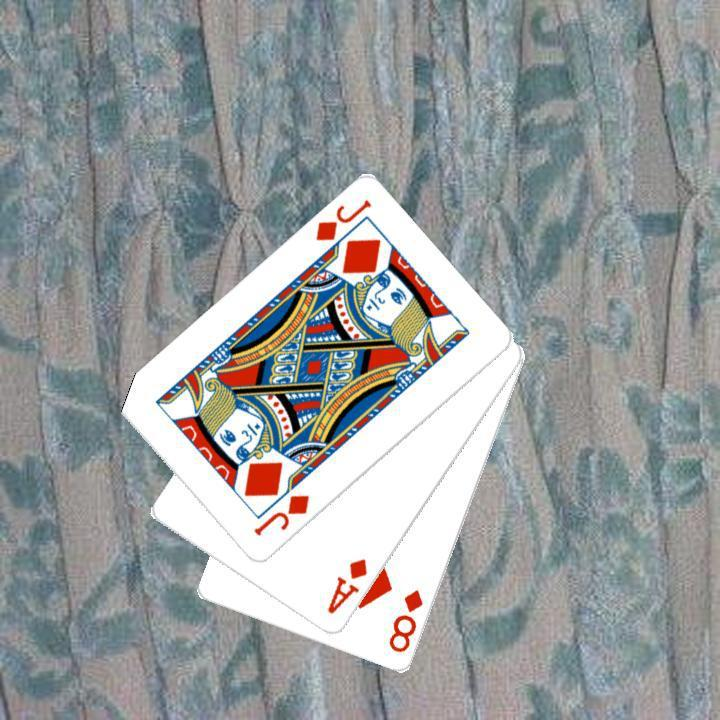8: (384, 585, 426, 656)
A: (322, 554, 370, 617)
J: (310, 195, 374, 244), (249, 490, 312, 539)
